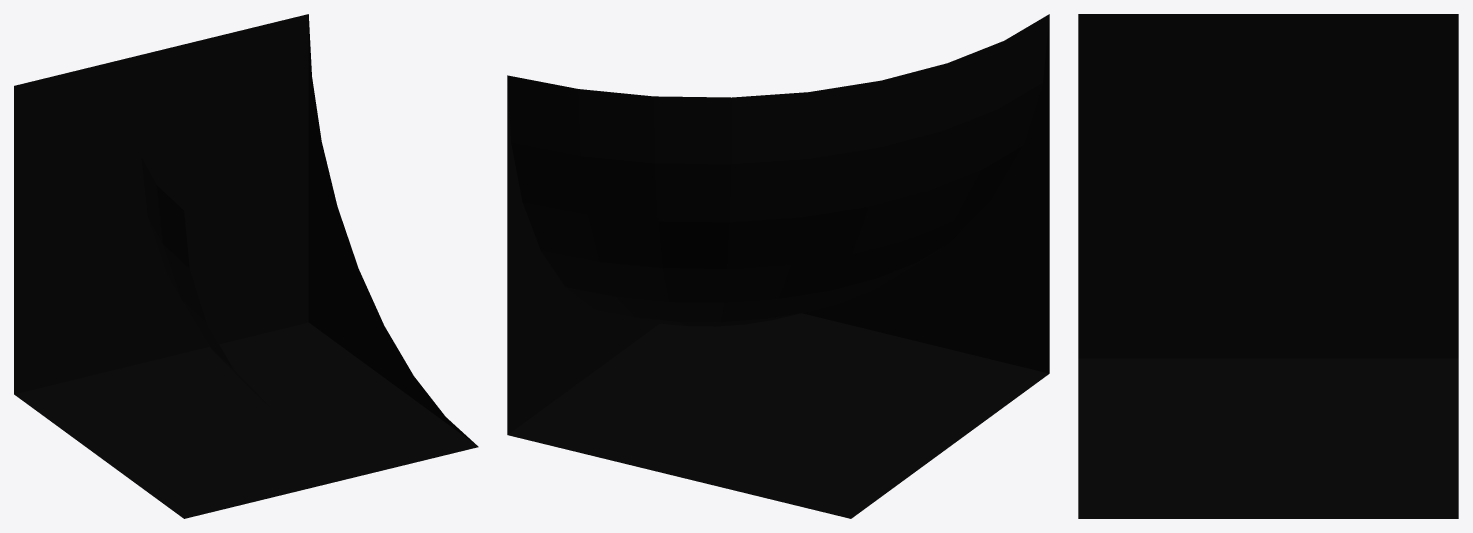
File: r4c2_border_black.gltf
The picture shows the model from 3 angles, left to right: view 1: azimuth 30°, elevation 25°; view 2: azimuth 150°, elevation 25°; view 3: azimuth 270°, elevation 25°; orthographic projection. The views are drawn at different scales.
Parts seen in each view (by area): view 1: r4c2_border_black; view 2: r4c2_border_black; view 3: r4c2_border_black.
Boxes of the visible parts, x1,y1,x2,y2 form: r4c2_border_black: [14, 14, 478, 518]; r4c2_border_black: [507, 14, 1049, 518]; r4c2_border_black: [1078, 14, 1458, 518].
Size of the model in its own units: 2.1 by 2.1 by 2.1.
1 material, 1 textured.
